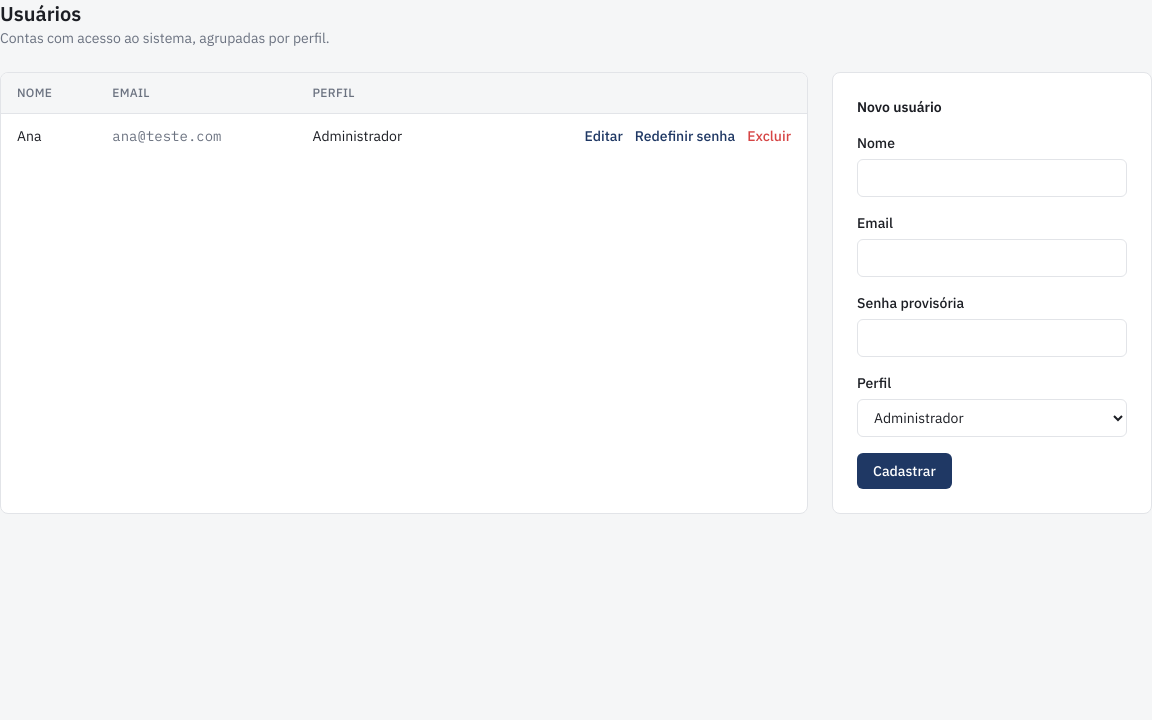
Test: UsuariosPage › mostra o erro da API ao excluir um usuário que já registrou movimentações
The image size is (1152, 720).
Click the button "Excluir": (769, 136) top-left (747, 126), bottom-right (791, 146)
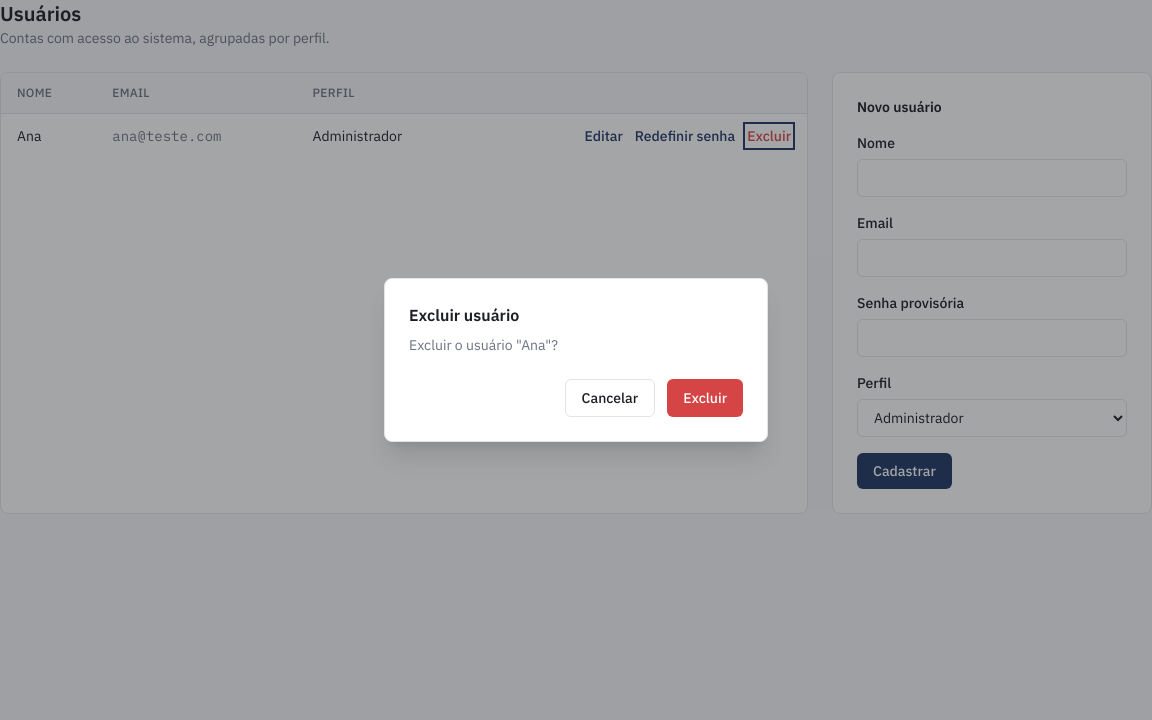
Click the button "Excluir": (705, 398) top-left (667, 379), bottom-right (743, 417)
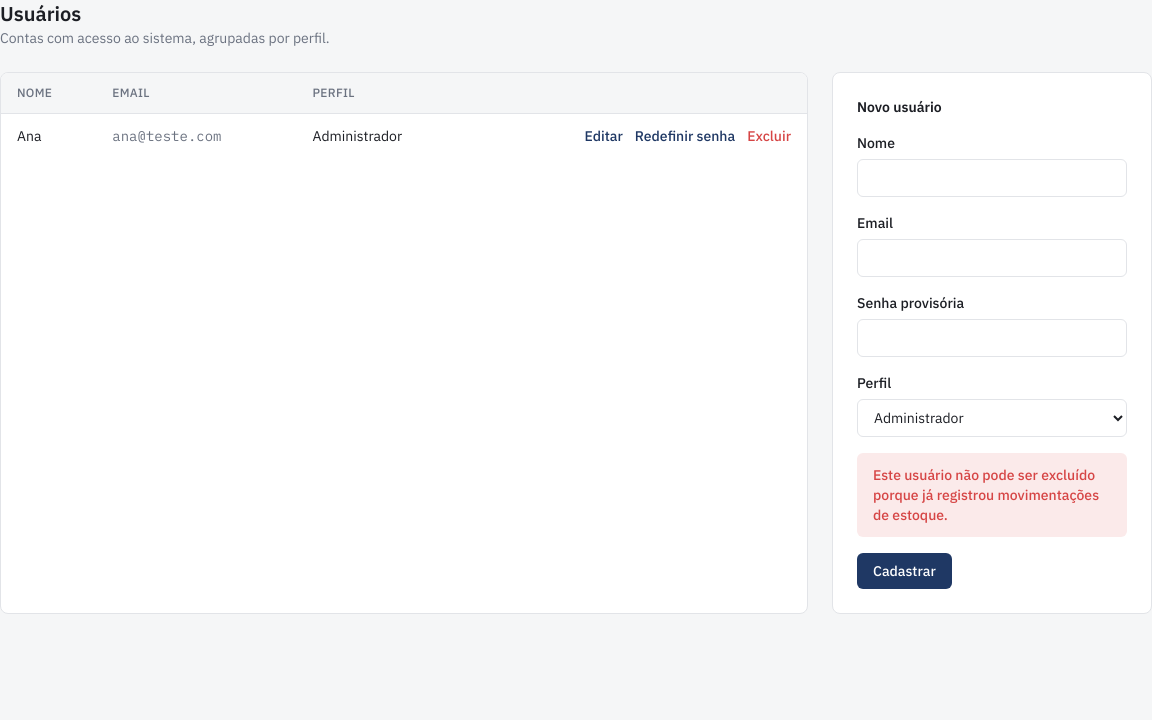
Now the text "Este usuário não pode ser excluído porque já registrou movimentações de estoque." is shown, box top-left (857, 453), bottom-right (1127, 537)
